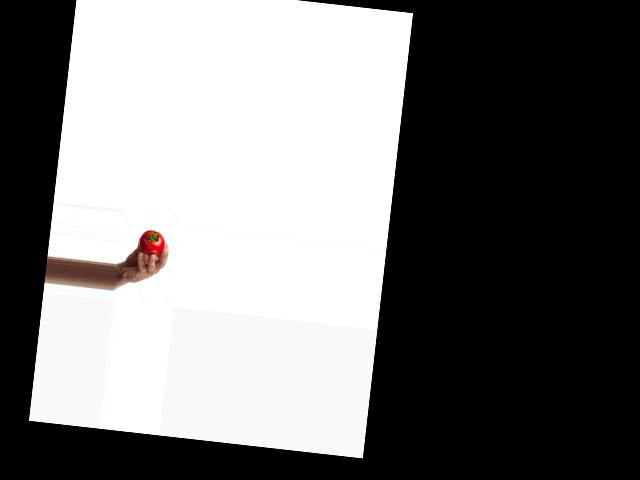tomato: (137, 228, 165, 256)
